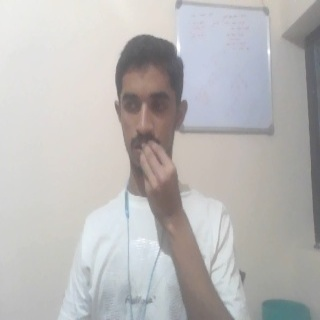Food: (138, 138, 190, 242)
